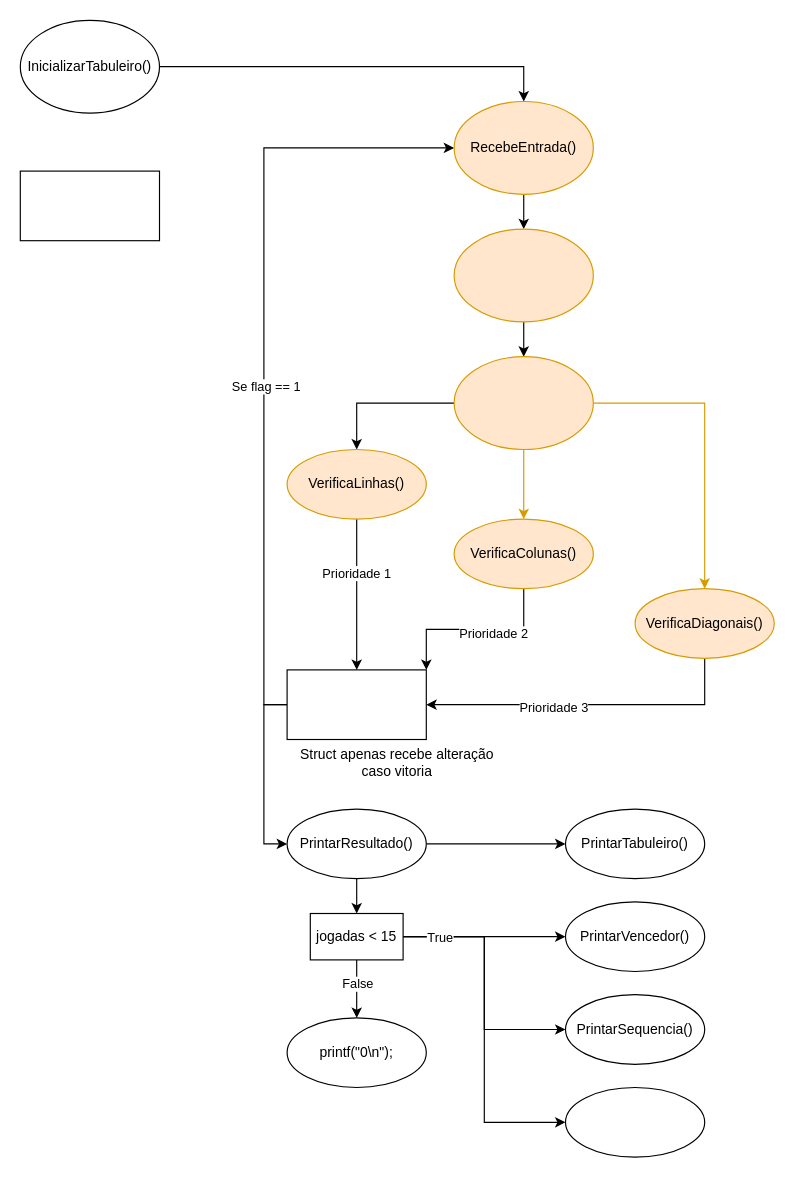
Image size: 795x1177. Some labels were removed from this diagram. Each missing label, with the centre of its shape:
int flag = 1; int celulas[4]; int caracteristica;: the point at 356,704
int tabuleiro[16]; int jogada = 0; struct Resultado: the point at 89,205
MudaTabuleiro(): the point at 523,275
PrintarCarac(): the point at 634,1121
Verifica Tabuleiro: the point at 523,402
